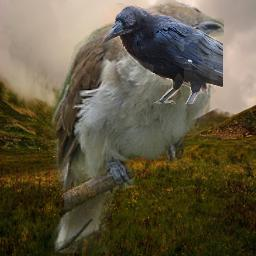Crow: (101, 3, 223, 104)
Cuckoo: (47, 0, 224, 253)
